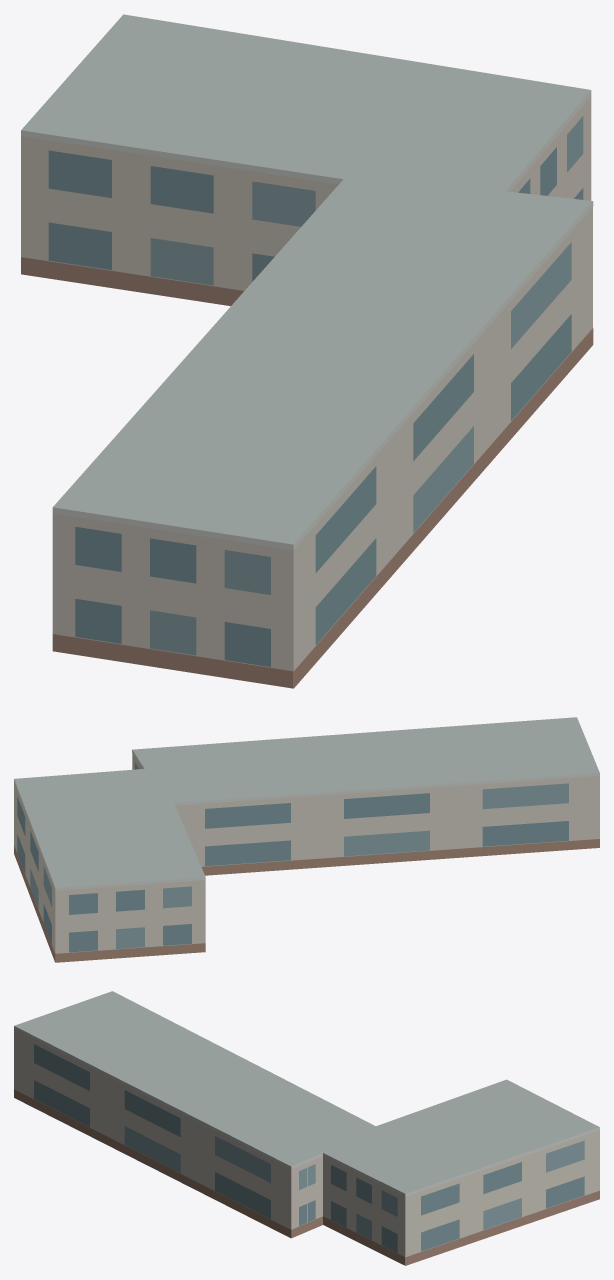
File: survey-upis-32950042.glb
3 views of the same model, one above another, from view 1: azimuth 30°, elevation 25°; view 2: azimuth 150°, elevation 25°; view 3: azimuth 270°, elevation 25° (orthographic). The views are drawn at different scales.
Visible parts, largest first — view 1: survey-upis-32950042.tmp; view 2: survey-upis-32950042.tmp; view 3: survey-upis-32950042.tmp.
Part boxes in pixels (x1,y1,x2,y2): survey-upis-32950042.tmp: [21, 14, 593, 688]; survey-upis-32950042.tmp: [14, 717, 599, 962]; survey-upis-32950042.tmp: [14, 991, 599, 1265].
Bounding box in the file's own units: 36.88 × 6.1 × 45.
